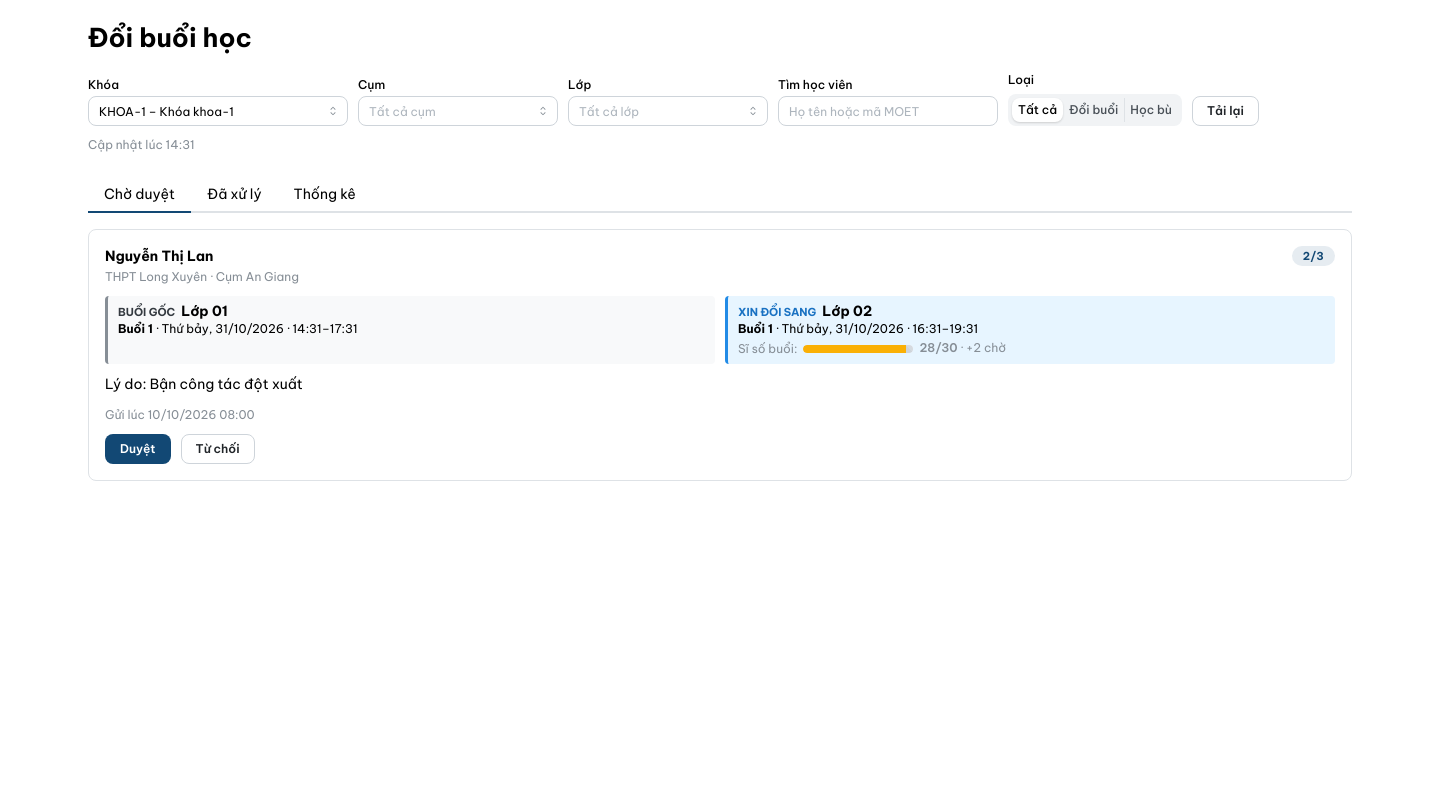
Scenario: Màn duyệt đổi buổi › hỗ trợ cụm: lựa chọn không duyệt được bị disabled kèm lý do; buổi đề nghị chọn sẵn
Click the button "Duyệt".
click(138, 449)  # box [105,434,171,464]
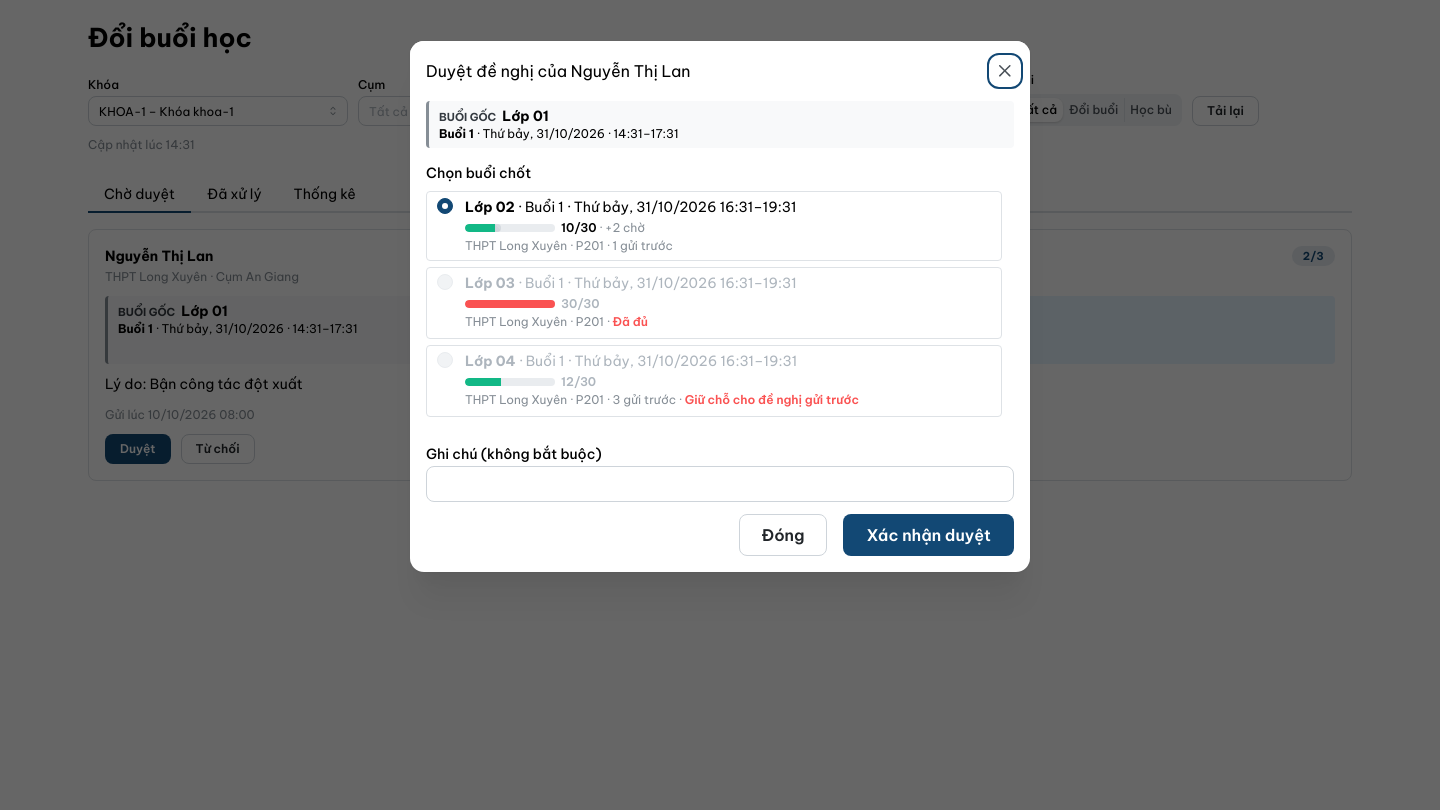
Check: the text "Chọn buổi chốt" is shown, box [426,163,531,184]
Check: the text "Đã đủ" is shown, box [613,314,648,329]
Check: the text "Giữ chỗ cho đề nghị gửi trước" is shown, box [685,392,859,407]
